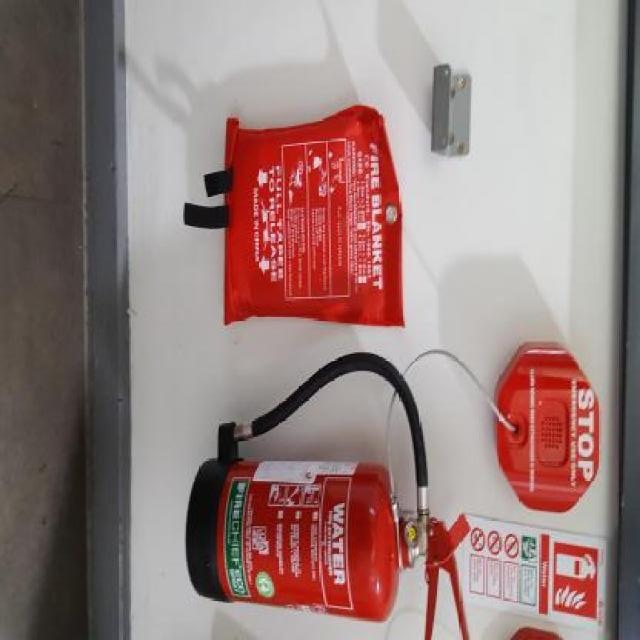fire extinguisher: (185, 347, 471, 640)
